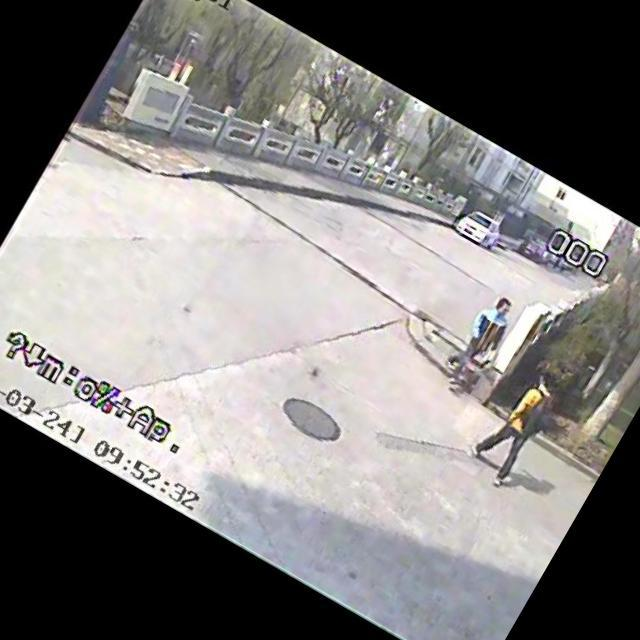person: (457, 348, 580, 497), (430, 285, 526, 404)
